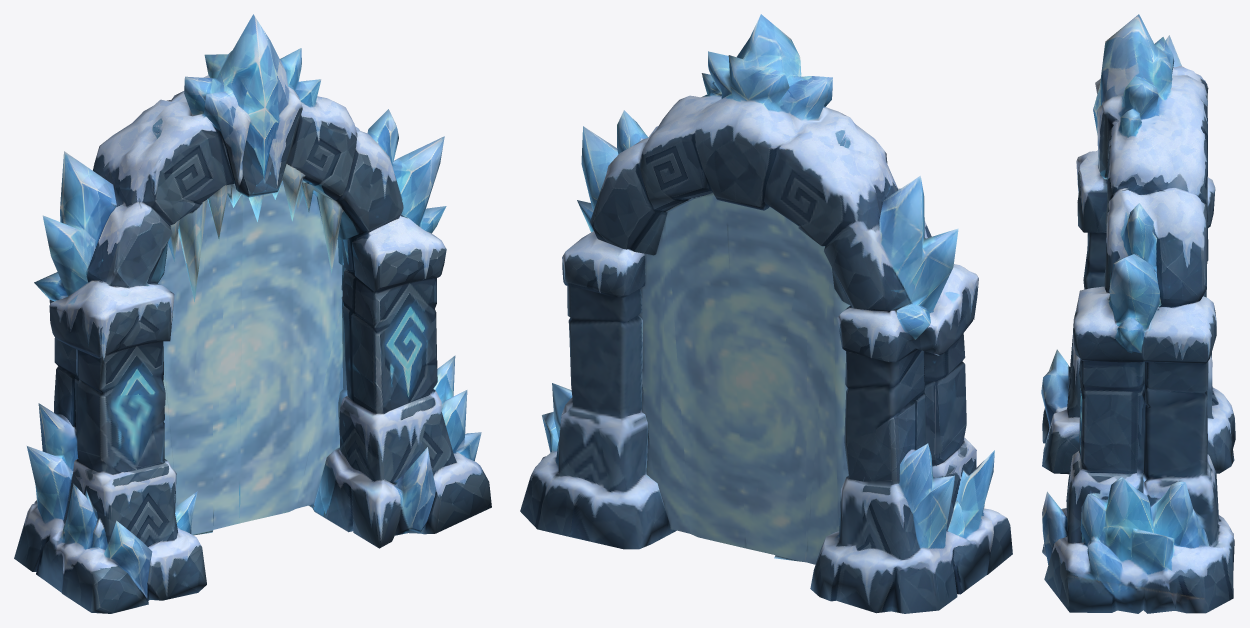
The model's file is portail_givre.glb.
3 renders of one model, left to right at view 1: azimuth 30°, elevation 25°; view 2: azimuth 150°, elevation 25°; view 3: azimuth 270°, elevation 25°, orthographic. The views are drawn at different scales.
Bounding box in the file's own units: 0.8008 × 0.9546 × 0.335.
Materials: 1 (1 with a texture image).
